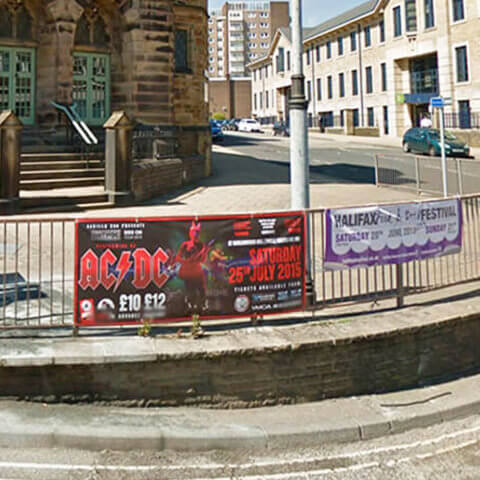vinyl banner: (68, 208, 311, 323), (322, 199, 470, 267)
